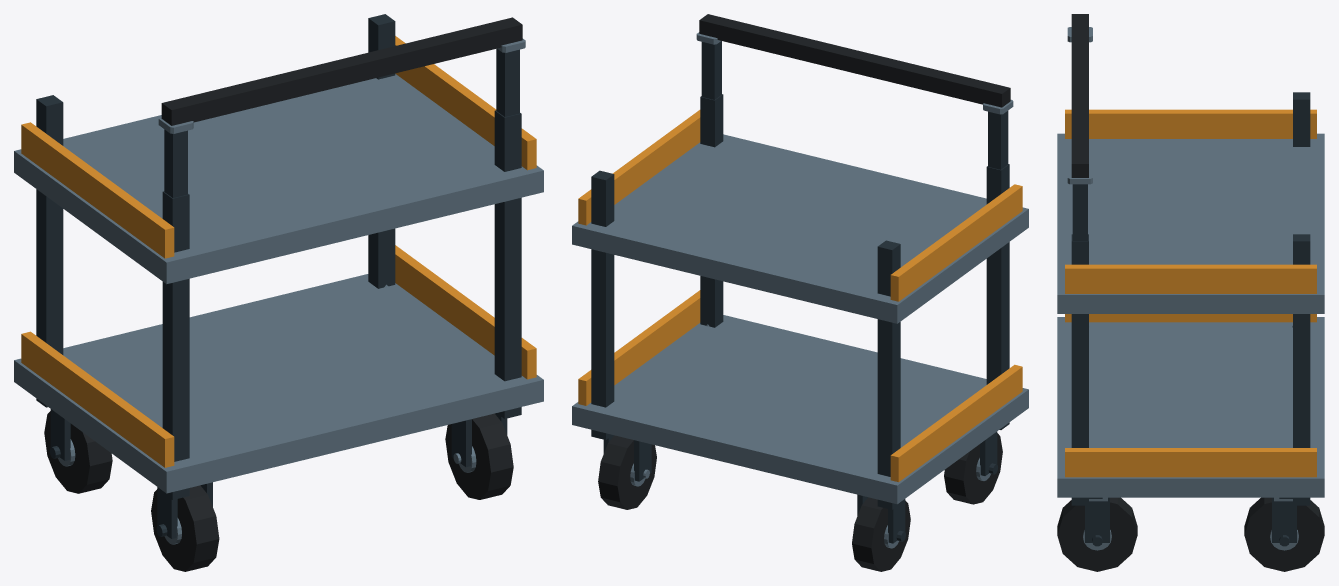
The picture shows the model from 3 angles, left to right: view 1: azimuth 30°, elevation 25°; view 2: azimuth 150°, elevation 25°; view 3: azimuth 270°, elevation 25°; orthographic projection. The views are drawn at different scales.
Visible parts, largest first — view 1: Cart_Shelf_0, Cart_Shelf_1, Cart_Handle_Grip, Cart_Upright_0.44_0.29, Cart_Upright_-0.44_0.29, Cart_Shelf_Lip_1_-0.48, Cart_Shelf_Lip_0_-0.48, Cart_Upright_-0.44_-0.29, Cart_Shelf_Lip_0_0.48, Cart_Shelf_Lip_1_0.48, Wheel_RF, Wheel_LF (+7 smaller); view 2: Cart_Shelf_1, Cart_Shelf_0, Cart_Handle_Grip, Cart_Upright_0.44_-0.29, Cart_Upright_-0.44_-0.29, Cart_Shelf_Lip_0_-0.48, Cart_Shelf_Lip_1_-0.48, Cart_Upright_-0.44_0.29, Cart_Shelf_Lip_0_0.48, Cart_Shelf_Lip_1_0.48, Wheel_RB, Wheel_LB (+7 smaller); view 3: Cart_Shelf_1, Cart_Shelf_0, Cart_Shelf_Lip_0_0.48, Cart_Shelf_Lip_1_0.48, Cart_Shelf_Lip_1_-0.48, Wheel_RB, Wheel_RF, Cart_Upright_0.44_-0.29, Cart_Upright_0.44_0.29, Cart_Handle_Grip, Cart_Shelf_Lip_0_-0.48, Cart_Upright_-0.44_-0.29 (+3 smaller).
Part boxes in pixels (left/top/right/bottom): Cart_Shelf_0: left=14, top=274, right=543, bottom=493; Cart_Shelf_1: left=14, top=74, right=543, bottom=284; Cart_Handle_Grip: left=161, top=17, right=522, bottom=125; Cart_Upright_0.44_0.29: left=494, top=110, right=521, bottom=418; Cart_Upright_-0.44_0.29: left=162, top=191, right=189, bottom=499; Cart_Shelf_Lip_1_-0.48: left=21, top=122, right=174, bottom=258; Cart_Shelf_Lip_0_-0.48: left=21, top=331, right=174, bottom=467; Cart_Upright_-0.44_-0.29: left=36, top=95, right=63, bottom=407; Cart_Shelf_Lip_0_0.48: left=395, top=245, right=536, bottom=379; Cart_Shelf_Lip_1_0.48: left=395, top=36, right=536, bottom=170; Wheel_RF: left=445, top=413, right=513, bottom=499; Wheel_LF: left=151, top=485, right=219, bottom=571; Cart_Shelf_1: left=572, top=134, right=1028, bottom=323; Cart_Shelf_0: left=572, top=315, right=1028, bottom=504; Cart_Handle_Grip: left=699, top=14, right=1010, bottom=107; Cart_Upright_0.44_-0.29: left=591, top=170, right=614, bottom=439; Cart_Upright_-0.44_-0.29: left=877, top=240, right=900, bottom=509; Cart_Shelf_Lip_0_-0.48: left=890, top=364, right=1022, bottom=482; Cart_Shelf_Lip_1_-0.48: left=890, top=184, right=1022, bottom=301; Cart_Upright_-0.44_0.29: left=986, top=164, right=1009, bottom=429; Cart_Shelf_Lip_0_0.48: left=578, top=290, right=700, bottom=405; Cart_Shelf_Lip_1_0.48: left=578, top=110, right=700, bottom=225; Wheel_RB: left=598, top=435, right=656, bottom=509; Wheel_LB: left=852, top=497, right=910, bottom=571; Cart_Shelf_1: left=1057, top=133, right=1324, bottom=313; Cart_Shelf_0: left=1057, top=317, right=1324, bottom=497; Cart_Shelf_Lip_0_0.48: left=1065, top=448, right=1316, bottom=477; Cart_Shelf_Lip_1_0.48: left=1065, top=264, right=1316, bottom=293; Cart_Shelf_Lip_1_-0.48: left=1065, top=109, right=1316, bottom=138; Wheel_RB: left=1244, top=497, right=1324, bottom=571; Wheel_RF: left=1057, top=497, right=1137, bottom=571; Cart_Upright_0.44_-0.29: left=1293, top=234, right=1310, bottom=505; Cart_Upright_0.44_0.29: left=1071, top=234, right=1088, bottom=505; Cart_Handle_Grip: left=1071, top=14, right=1088, bottom=177; Cart_Shelf_Lip_0_-0.48: left=1065, top=314, right=1316, bottom=322; Cart_Upright_-0.44_-0.29: left=1293, top=92, right=1310, bottom=146.
Bounding box in the file's own units: 1 × 1.2 × 0.7.
